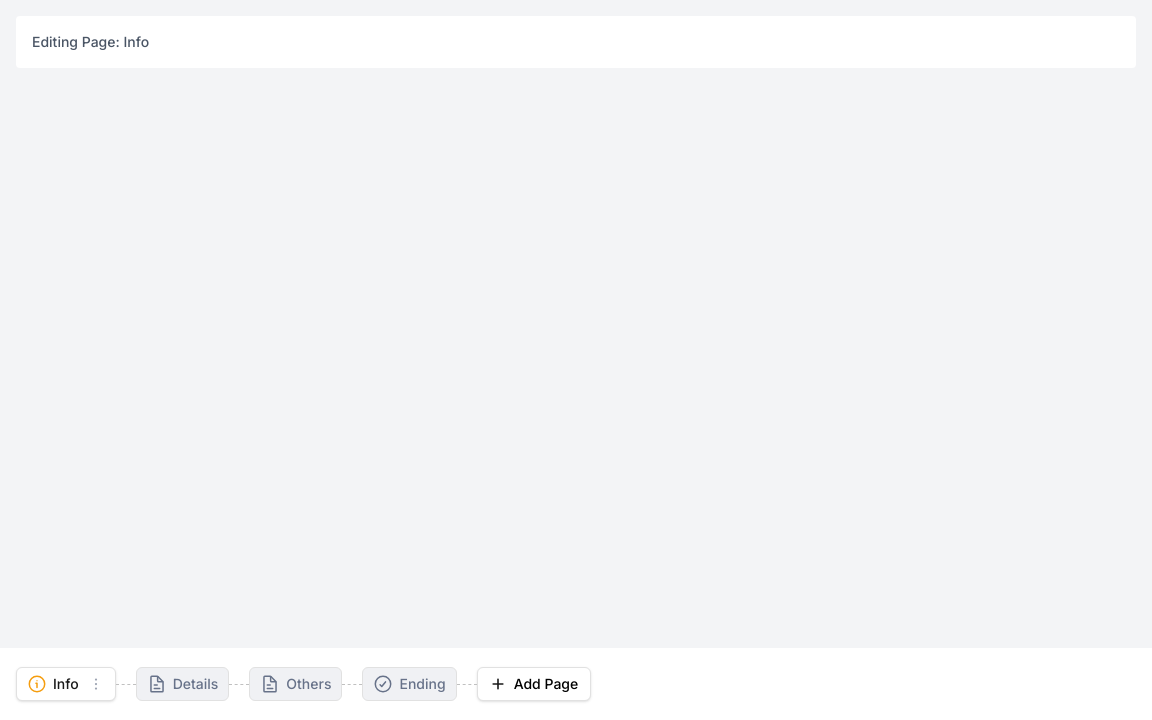
FormBuilder › Adding new pages › Adds a new page at the end
Click the button "Add Page" at (534, 684), box [477,667,591,701]
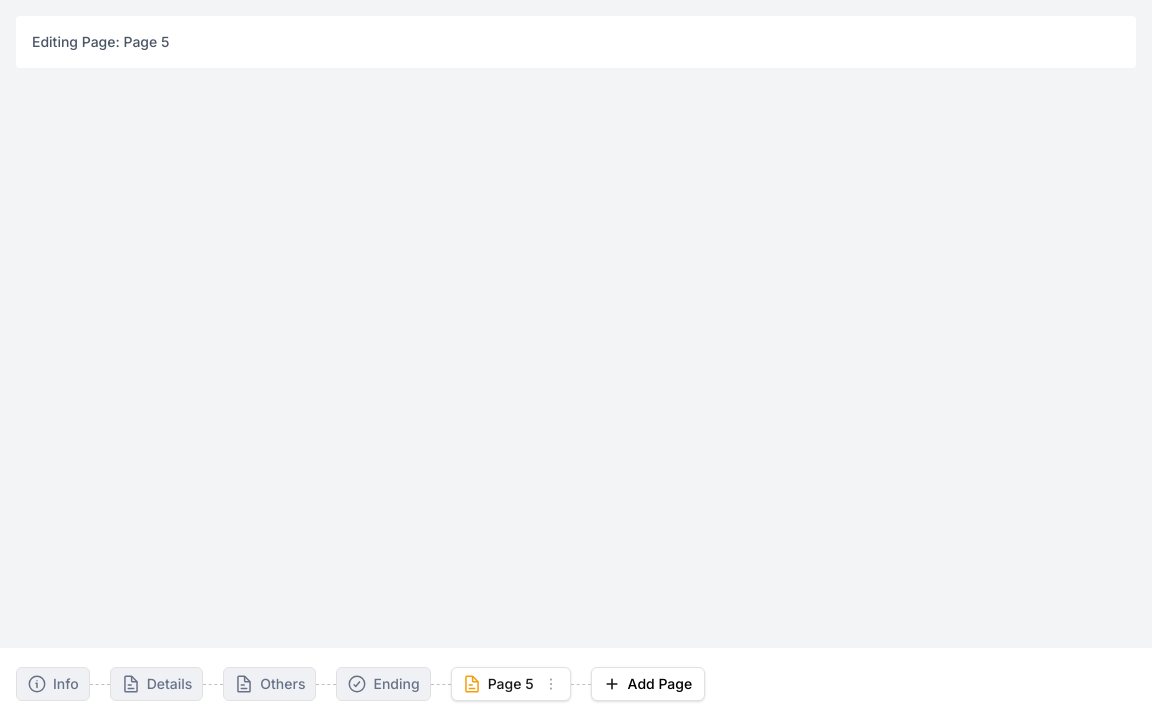
Now the text "Page 5" is shown, box [462,674,534,694]
Now the button with test id "page-nav-item" reads "Page 5", box [451,667,571,701]
